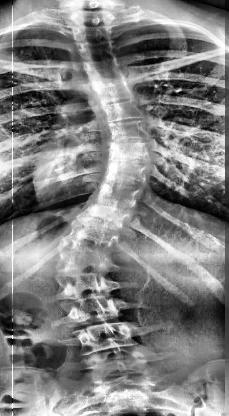Vertebrae: (71, 321, 149, 349), (72, 202, 138, 229), (61, 232, 131, 256), (64, 297, 130, 322), (57, 254, 125, 278), (62, 223, 130, 247), (100, 163, 165, 187), (86, 183, 146, 207), (100, 142, 160, 166), (55, 280, 126, 300), (77, 60, 127, 80), (102, 120, 154, 138), (100, 100, 148, 119), (89, 82, 139, 100), (68, 24, 116, 40), (71, 42, 117, 58)
